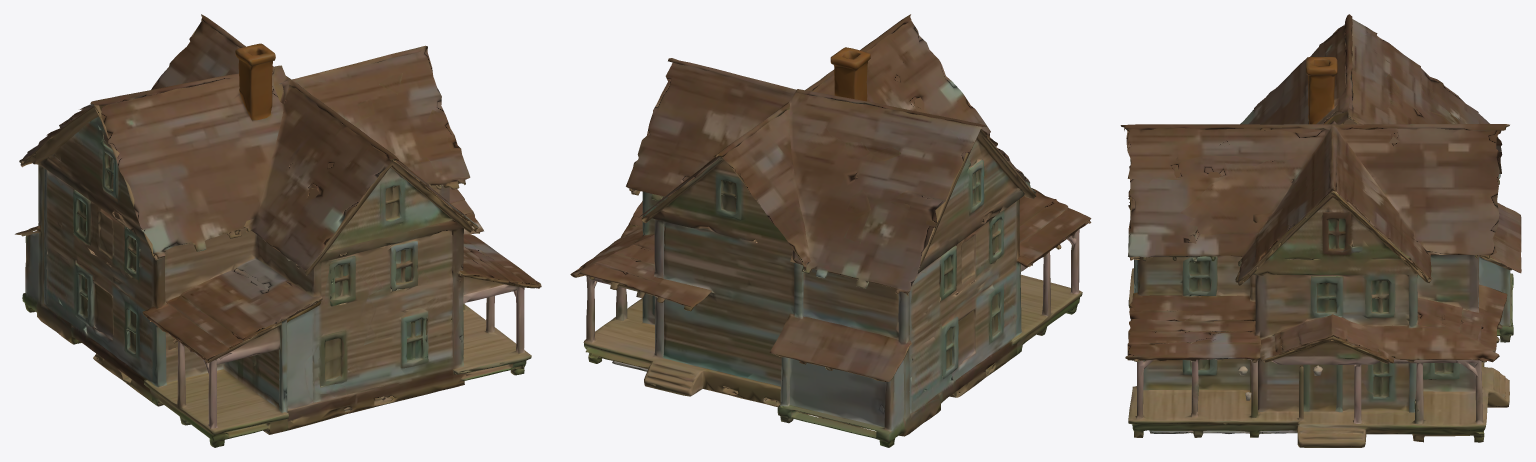
The model's file is 4dba3077-bee6-404c-bf4f-dbe65c089cf1.glb.
The picture shows the model from 3 angles, left to right: view 1: azimuth 30°, elevation 25°; view 2: azimuth 150°, elevation 25°; view 3: azimuth 270°, elevation 25°; orthographic projection.
Parts seen in each view (by area): view 1: world; view 2: world; view 3: world.
Part boxes in pixels (x1=…): world: x1=15, y1=14, x2=541, y2=447; world: x1=570, y1=14, x2=1091, y2=447; world: x1=1120, y1=14, x2=1521, y2=447.
Size of the model in its own units: 0.9917 by 0.8019 by 0.9955.
1 material, 1 textured.
